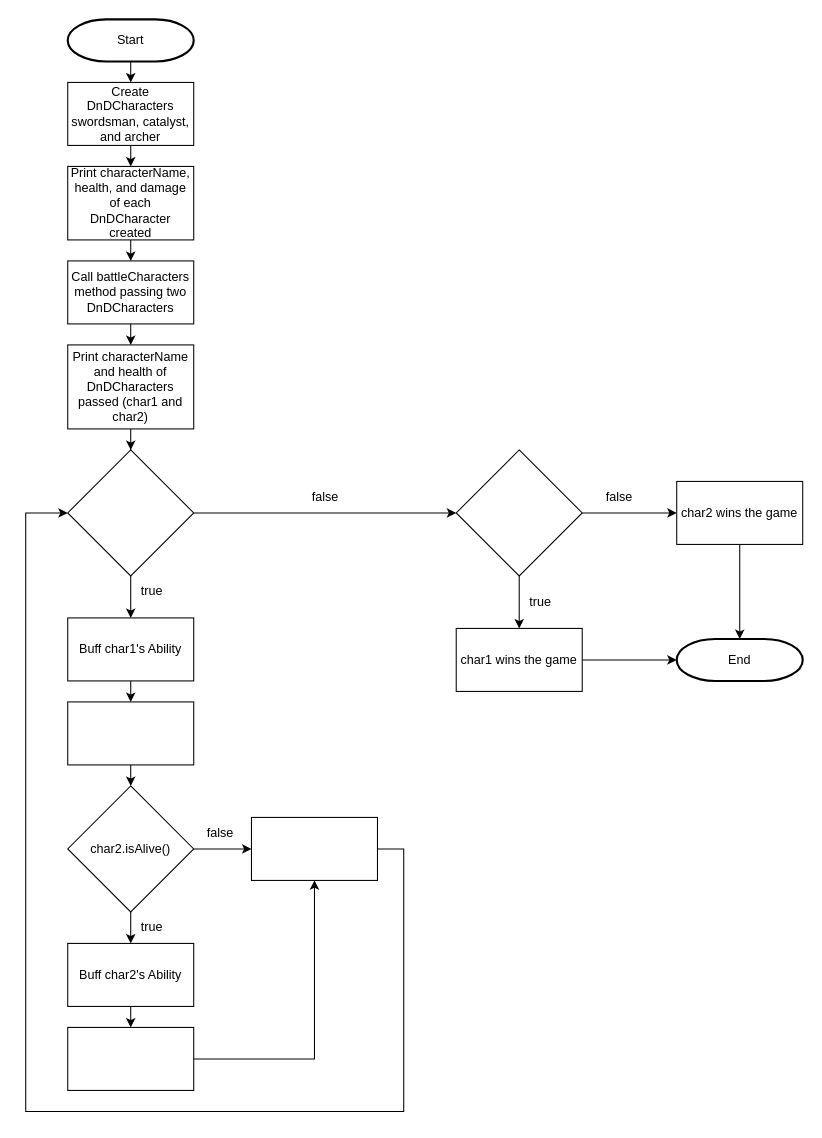
The diagram is 822 pixels wide and 1138 high, and some of its shapes have lost their labels. The shapes that lost their labels are listed below. From the top down, each one's centre as x and y in pixels, then its label:
the point at 130,512: char1.isAlive() && char2.isAlive()
the point at 518,512: char1.isAlive()
the point at 130,733: Call attack method passing char2 as parameter with char1 as attacker
the point at 313,848: print char1 and char2's name and health
the point at 130,1058: Call attack method passing char2 as parameter with cha
